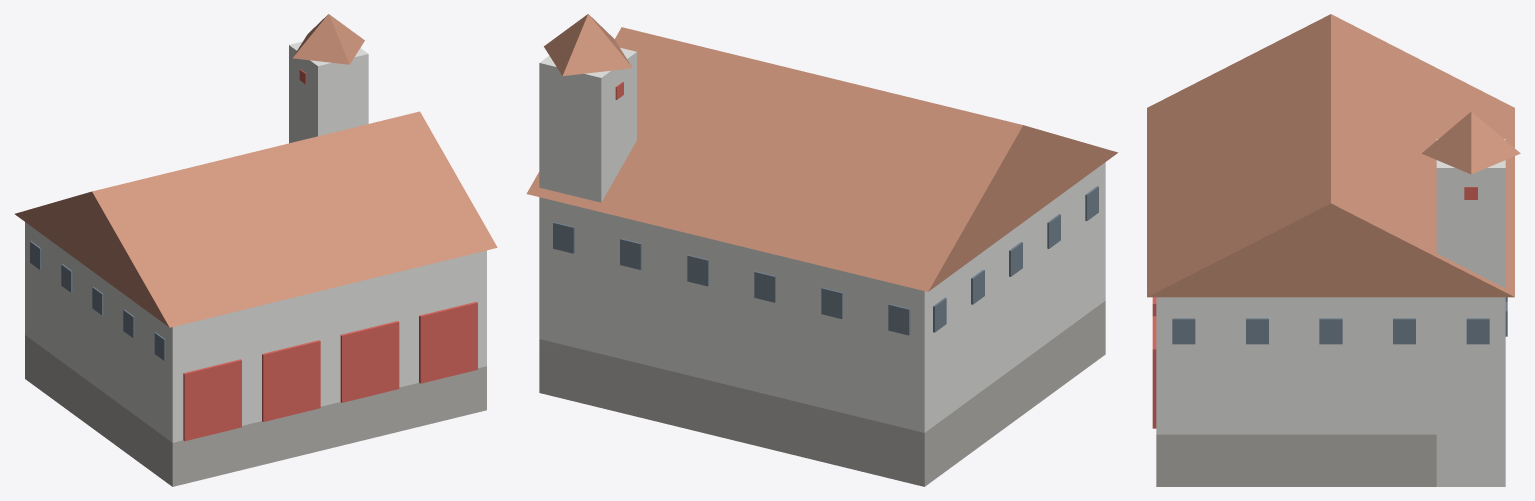
The model's file is fire_station-freiwillige-feuerwehr-mappach.glb.
The picture shows the model from 3 angles, left to right: view 1: azimuth 30°, elevation 25°; view 2: azimuth 150°, elevation 25°; view 3: azimuth 270°, elevation 25°; orthographic projection. The views are drawn at different scales.
Parts seen in each view (by area): view 1: building; view 2: building; view 3: building.
Part boxes in pixels (x1,y1,x2,y2): building: (15,14,497,486); building: (526,14,1118,486); building: (1147,14,1520,486).
Size of the model in its own units: 19.72 by 17.28 by 16.24.
